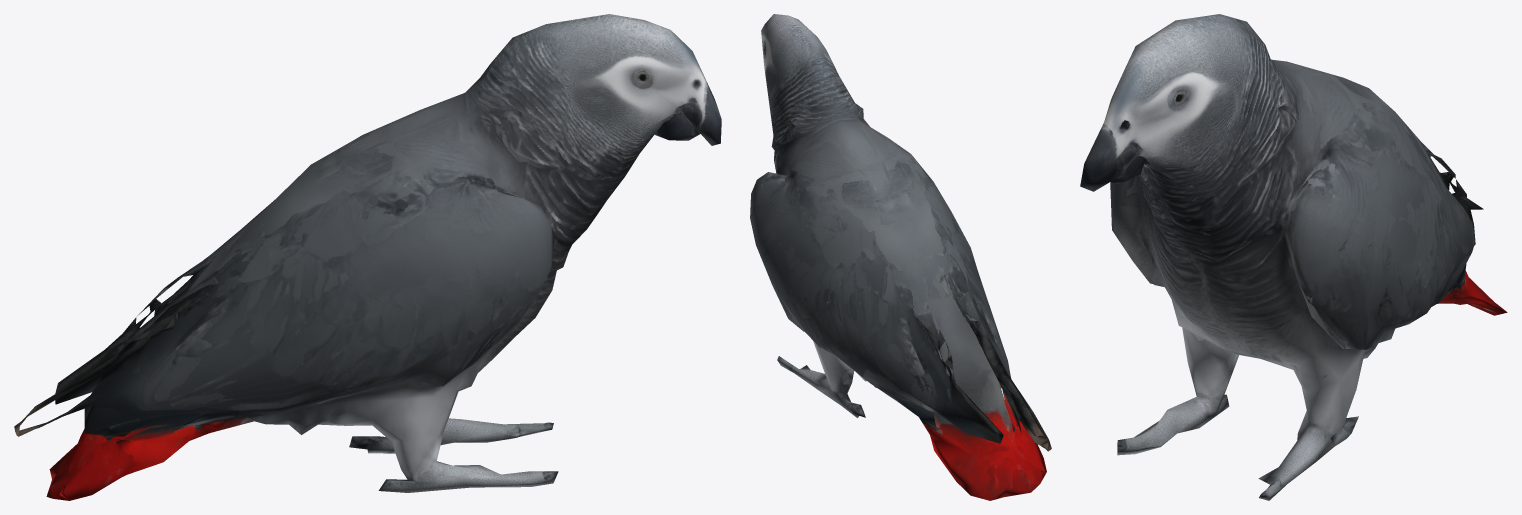
The model's file is parrot_grey_single_1500.glb.
3 renders of one model, left to right at view 1: azimuth 30°, elevation 25°; view 2: azimuth 150°, elevation 25°; view 3: azimuth 270°, elevation 25°, orthographic. The views are drawn at different scales.
Bounding box in the file's own units: 0.8695 × 0.6932 × 0.5283.
Materials: 1 (1 with a texture image).
